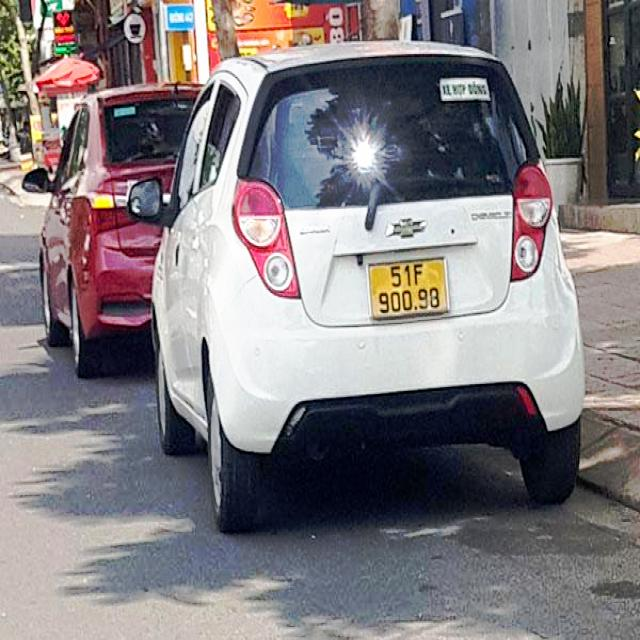license_plate: (370, 260, 452, 321)
